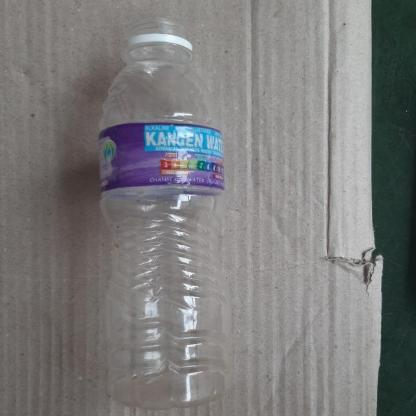Plastic Bottle: (97, 18, 229, 410)
